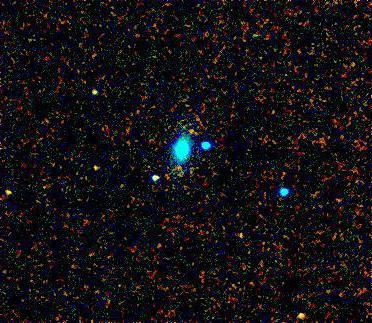star: (285, 299, 315, 323)
